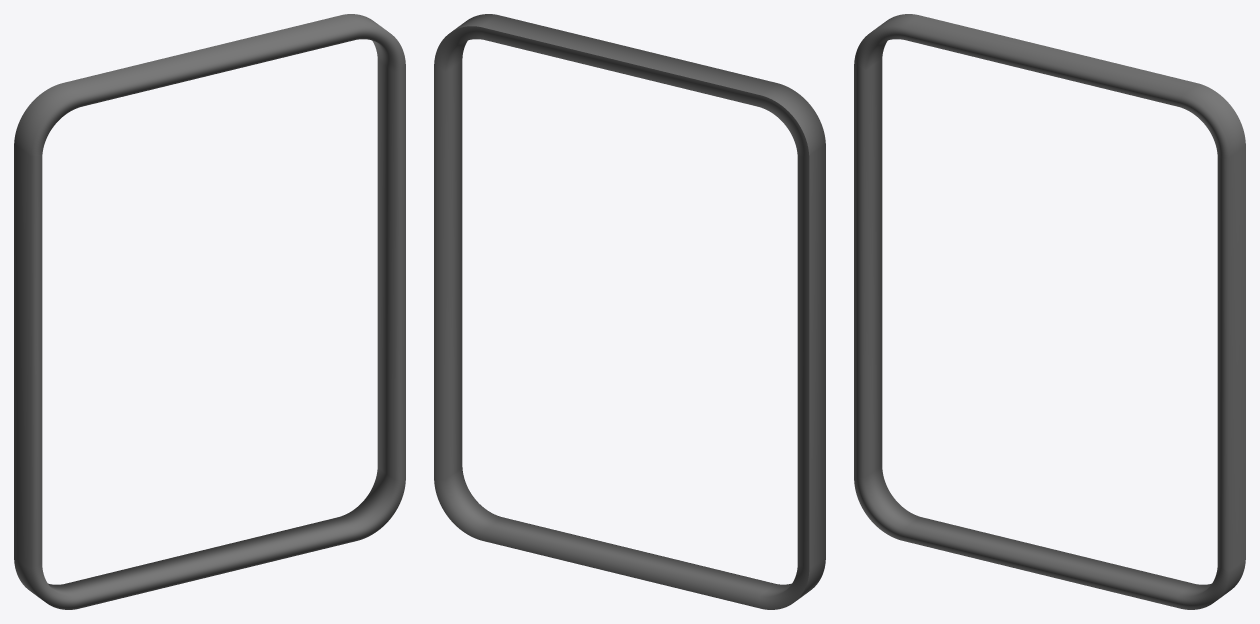
Rendered from lock-ring.glb.
The picture shows the model from 3 angles, left to right: view 1: azimuth 30°, elevation 25°; view 2: azimuth 150°, elevation 25°; view 3: azimuth 330°, elevation 25°; orthographic projection.
Visible parts, largest first — view 1: ring_body; view 2: ring_body; view 3: ring_body.
Boxes of the visible parts, <box> form: ring_body: <box>14,14,405,609</box>; ring_body: <box>434,14,825,609</box>; ring_body: <box>854,14,1245,609</box>.
Size of the model in its own units: 1.3 by 1.7 by 0.101.
2 materials, 2 textured.
